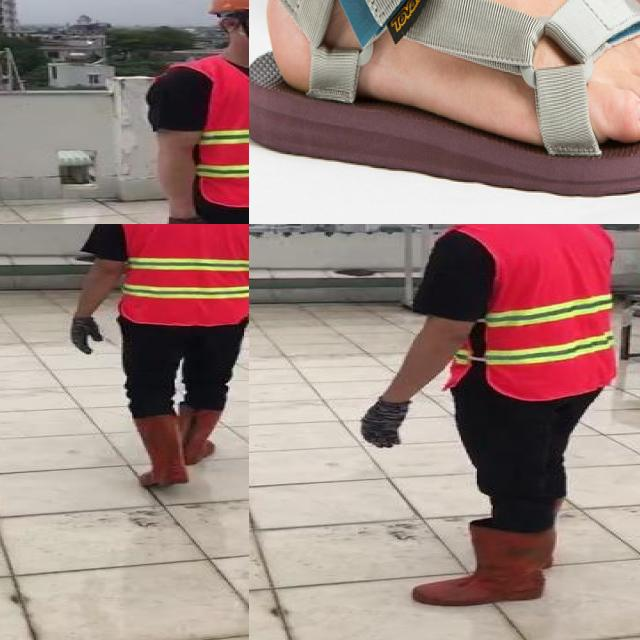Sandals: (249, 0, 640, 199)
boots: (413, 521, 553, 606), (132, 415, 189, 490), (184, 409, 226, 466)
hand_glove: (354, 398, 412, 450), (68, 317, 105, 352)
person: (345, 224, 622, 612), (60, 224, 249, 498), (142, 0, 249, 224)
vest: (439, 224, 621, 400), (117, 224, 249, 328), (193, 55, 249, 206)
